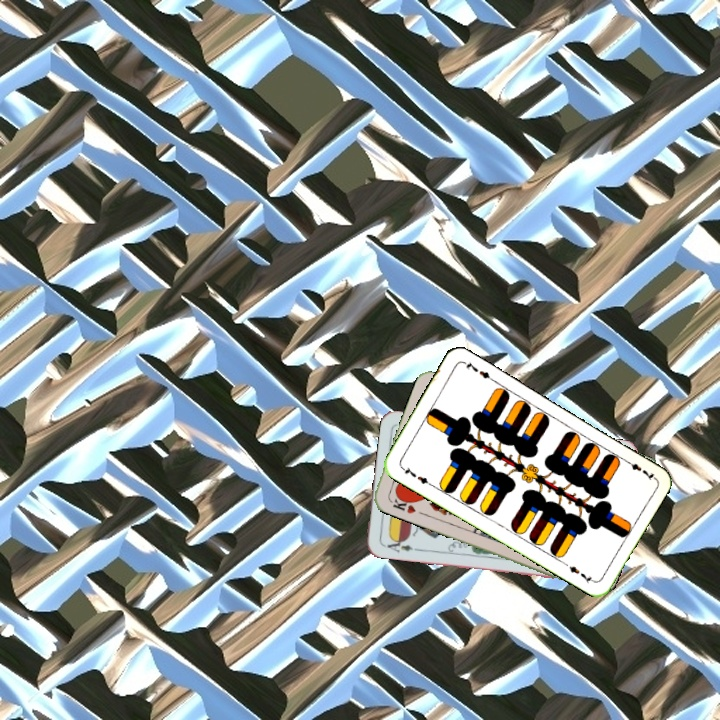E7: (620, 455, 657, 483), (397, 463, 434, 488)
EA: (379, 535, 420, 556)
HK: (385, 491, 418, 516)
